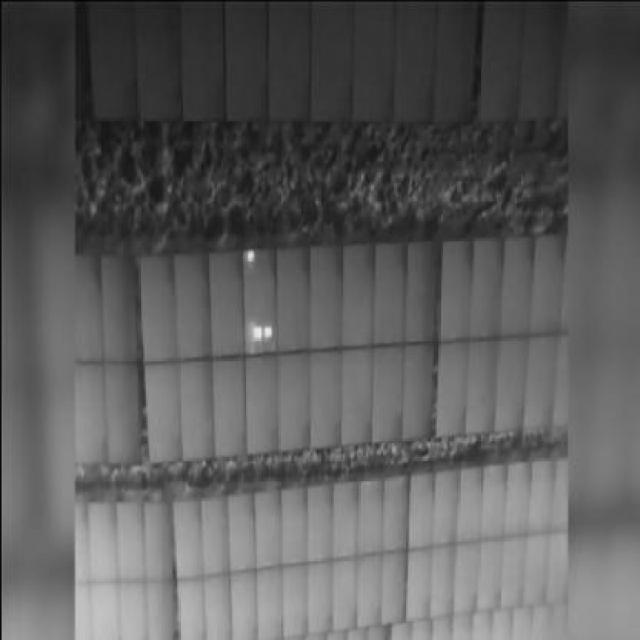hotspot: (244, 246, 256, 265), (250, 322, 262, 341), (262, 322, 270, 340)
